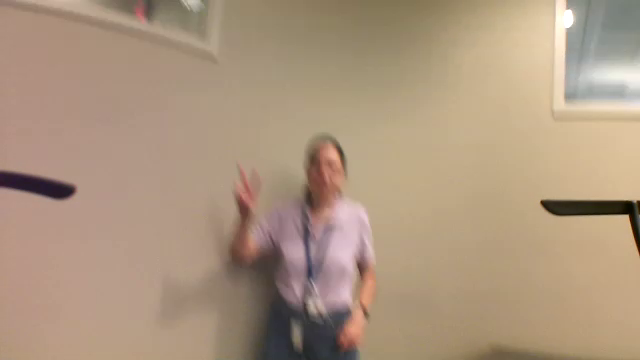peace: (229, 162, 264, 212)
